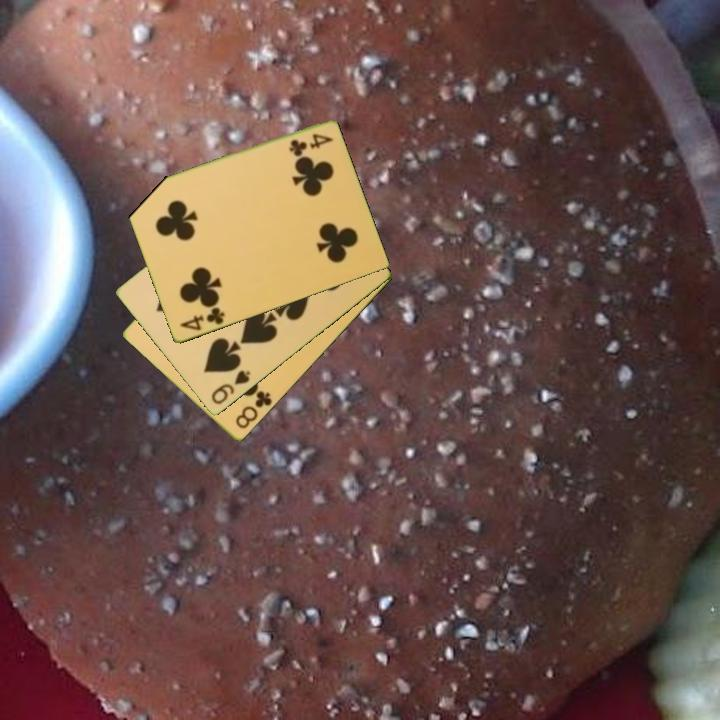4c: (176, 304, 228, 334), (286, 130, 336, 158)
8c: (232, 385, 275, 432)
9s: (207, 367, 253, 408)
